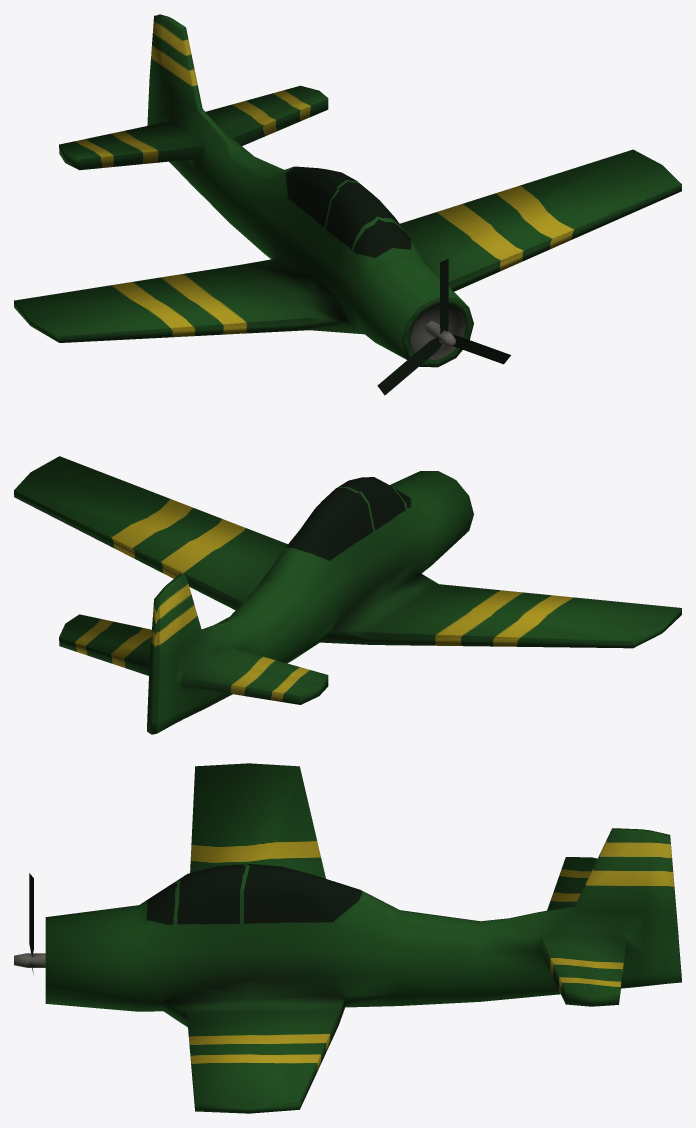
Rendered from fighter.glb.
3 renders of one model, top to bottom at view 1: azimuth 30°, elevation 25°; view 2: azimuth 150°, elevation 25°; view 3: azimuth 270°, elevation 25°, orthographic. The views are drawn at different scales.
Visible parts, largest first — view 1: Cylinder.001_Cylinder.002; view 2: Cylinder.001_Cylinder.002; view 3: Cylinder.001_Cylinder.002.
Boxes of the visible parts, x1,y1,x2,y2 form: Cylinder.001_Cylinder.002: [14, 14, 681, 395]; Cylinder.001_Cylinder.002: [14, 456, 681, 734]; Cylinder.001_Cylinder.002: [14, 763, 681, 1113].
Size of the model in its own units: 7.83 by 1.91 by 6.45.
Materials: 1 (1 with a texture image).
